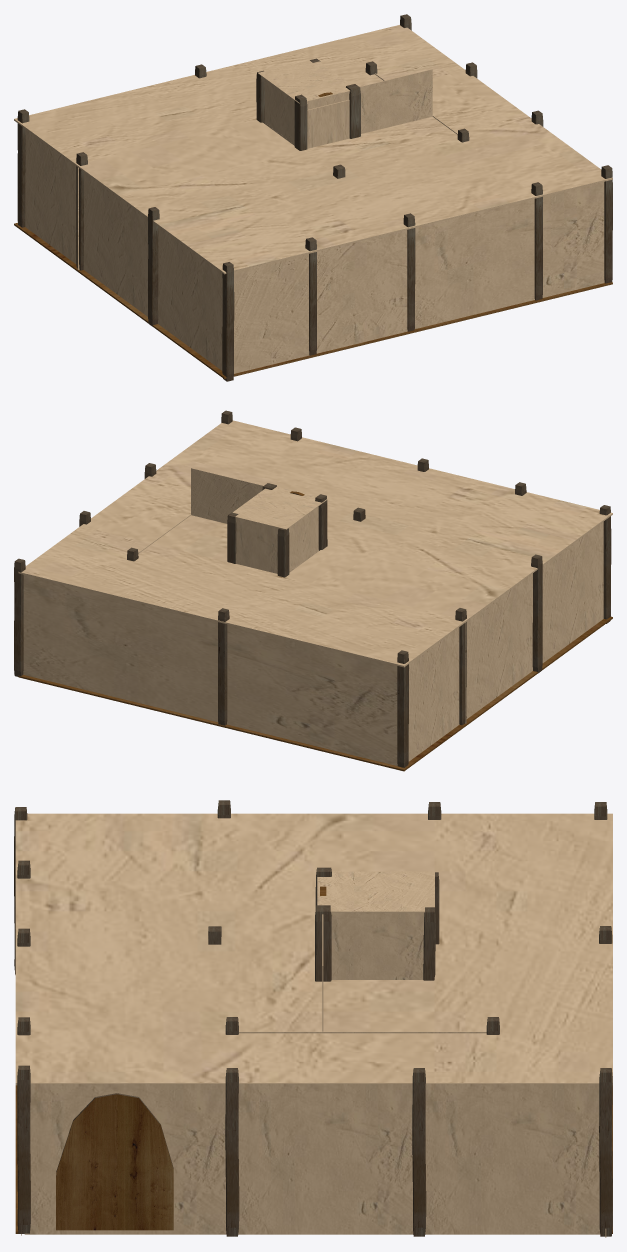
The model's file is tavern-interior.fbx.
3 renders of one model, top to bottom at view 1: azimuth 30°, elevation 25°; view 2: azimuth 150°, elevation 25°; view 3: azimuth 270°, elevation 25°, orthographic. The views are drawn at different scales.
Visible parts, largest first — view 1: Cube.333, Cube.048, Cube.331, Cube.266, Cube.267, Cube.268, Cube.332, Cube.272, Cube.339, Cube.304, Cube.271, Cube.337 (+9 smaller); view 2: Cube.333, Cube.276, Cube.267, Cube.266, Cube.268, Cube.272, Cube.332, Cube.339, Cube.336, Cube.270, Cube.337, Cube.273 (+6 smaller); view 3: Cube.333, Cube.277, Cube.097, Cube.306, Plane.003, Cube.335, Cube.339, Cube.101, Cube.099, Cube.275, Cube.100, Cube.305 (+2 smaller).
Part boxes in pixels (x1,y1,x2,y2): Cube.333: (14, 25, 612, 274); Cube.048: (415, 182, 604, 328); Cube.331: (234, 230, 407, 373); Cube.266: (158, 226, 222, 370); Cube.267: (83, 172, 148, 316); Cube.268: (25, 129, 76, 263); Cube.332: (360, 69, 432, 133); Cube.272: (14, 222, 612, 378); Cube.339: (258, 60, 350, 103); Cube.304: (307, 100, 349, 148); Cube.271: (222, 262, 234, 381); Cube.337: (264, 78, 294, 143); Cube.333: (18, 420, 612, 667); Cube.276: (23, 575, 397, 765); Cube.267: (466, 573, 532, 718); Cube.266: (542, 522, 603, 662); Cube.268: (408, 627, 459, 761); Cube.272: (18, 616, 612, 771); Cube.332: (191, 468, 263, 523); Cube.339: (229, 487, 327, 529); Cube.336: (235, 517, 278, 573); Cube.270: (397, 650, 408, 767); Cube.337: (289, 506, 318, 570); Cube.273: (531, 554, 542, 673); Cube.333: (15, 813, 612, 1085); Cube.277: (425, 1083, 600, 1234); Cube.097: (238, 1083, 413, 1234); Cube.306: (24, 1083, 226, 1234); Plane.003: (56, 1093, 173, 1230); Cube.335: (331, 912, 424, 979); Cube.339: (317, 871, 434, 912); Cube.101: (599, 1068, 612, 1236); Cube.099: (225, 1068, 239, 1236); Cube.275: (17, 1065, 30, 1233); Cube.100: (412, 1068, 426, 1236); Cube.305: (315, 905, 331, 981).
Bounding box in the file's own units: 3125 × 1215 × 2899.
7 materials, 7 textured.
